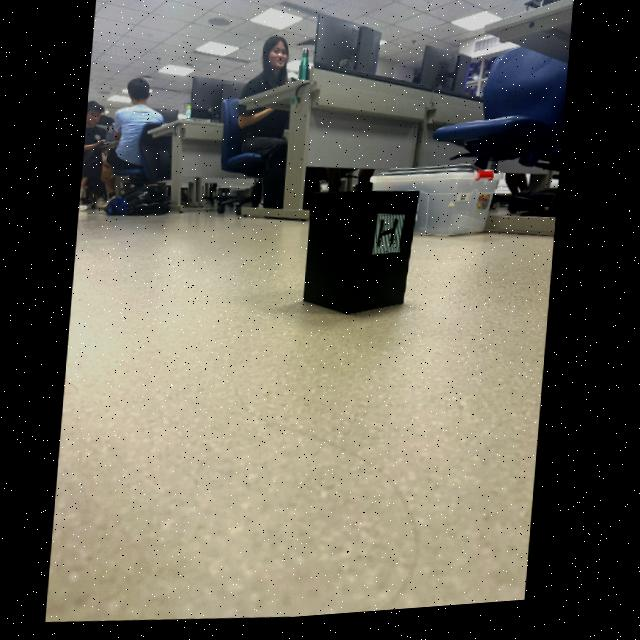H: (380, 226, 399, 254)
